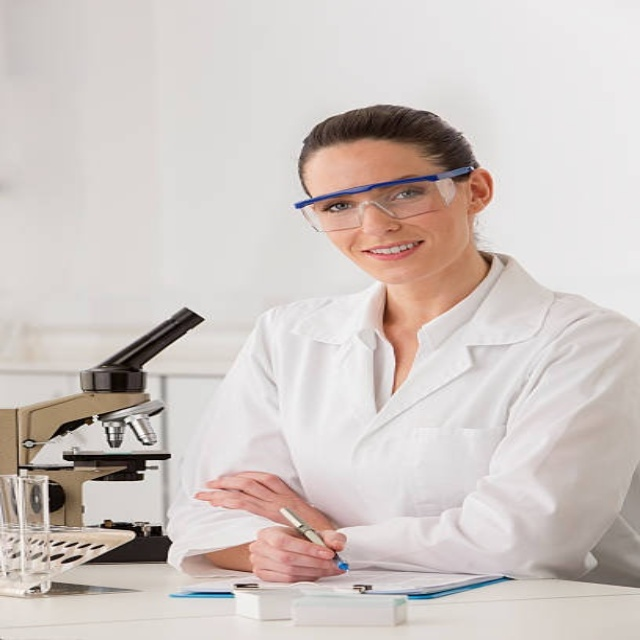Gafas: (296, 168, 469, 235)
Sin_guantes: (197, 469, 333, 530), (248, 526, 347, 583)
Sin_mascara: (353, 235, 430, 273)
